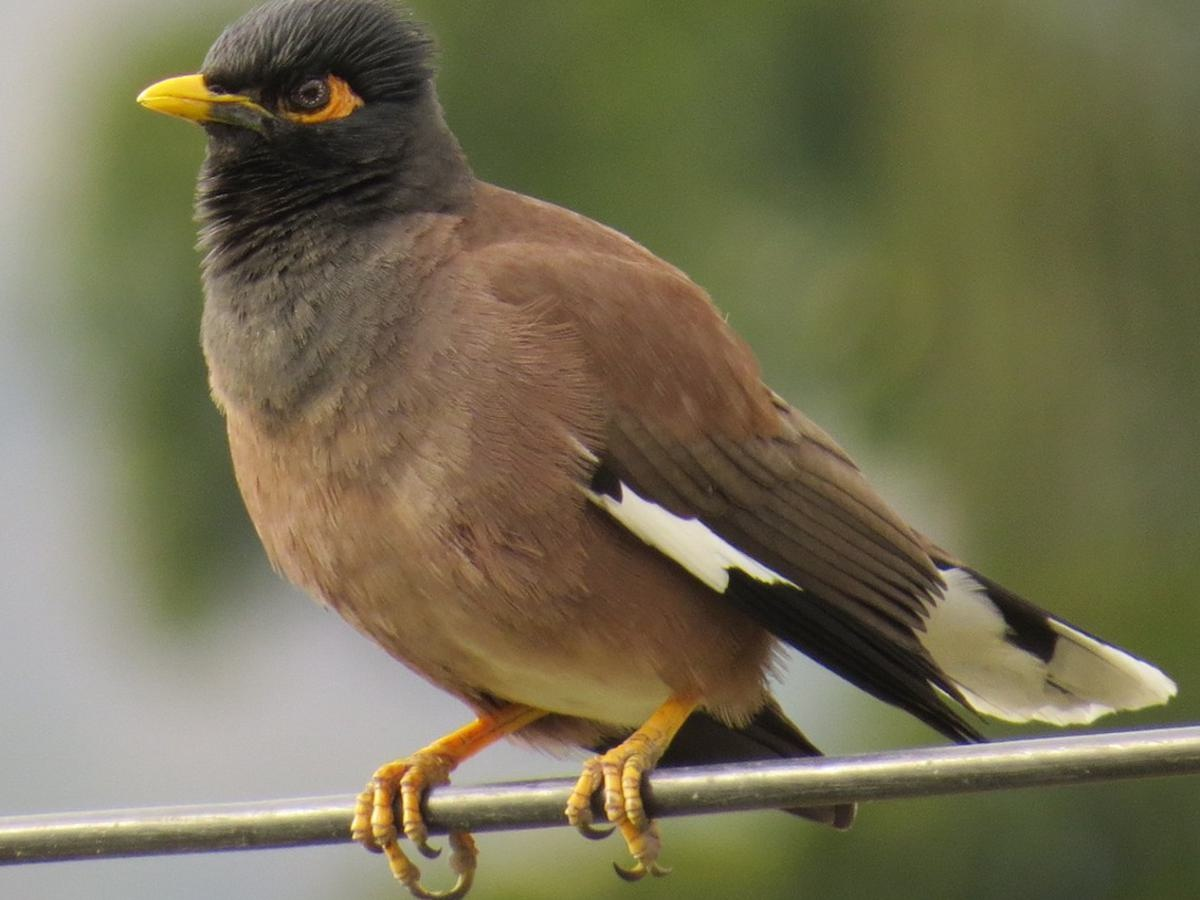myna: (119, 5, 967, 830)
